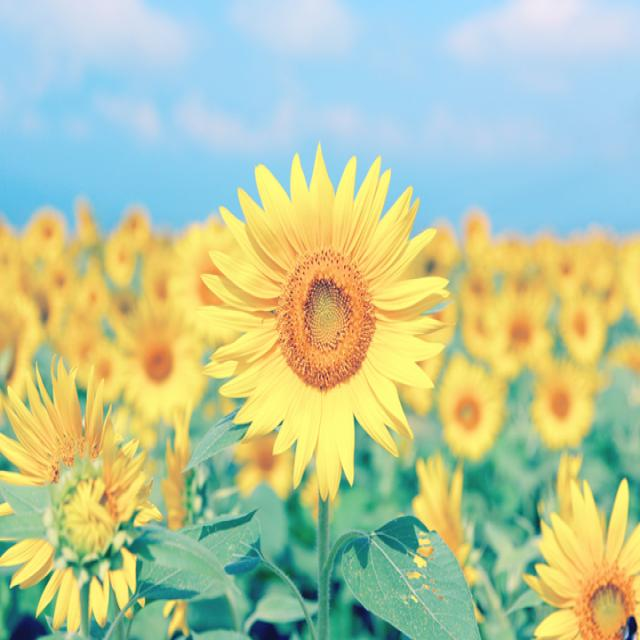sunflower: (193, 146, 443, 479), (0, 351, 183, 632), (523, 472, 640, 640), (433, 347, 512, 461), (125, 301, 202, 415), (526, 354, 596, 450)
